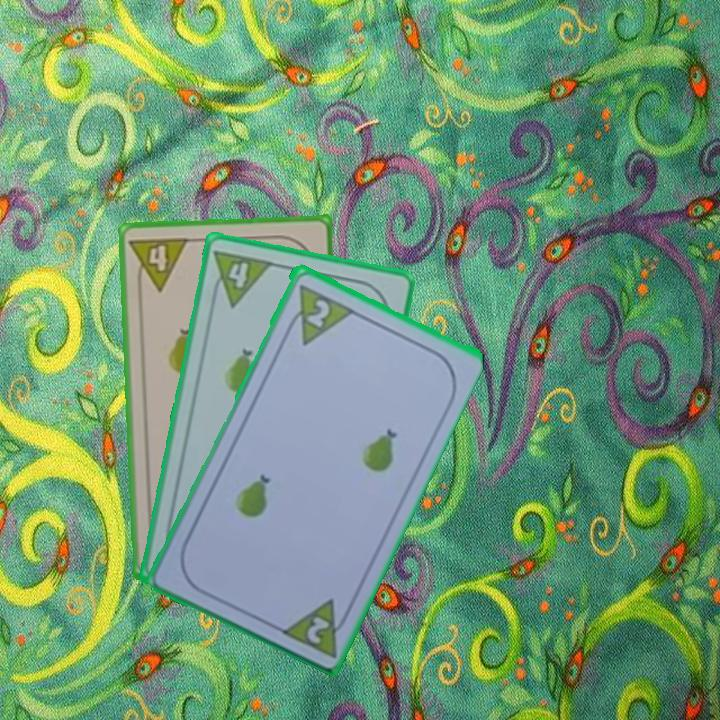2p: (275, 593, 355, 660), (280, 279, 355, 347)
4p: (206, 247, 275, 310), (126, 233, 191, 295)
